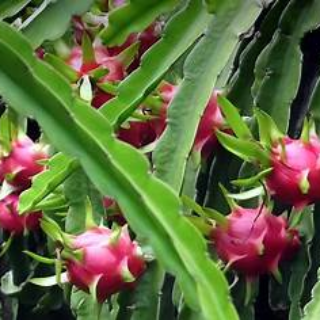thanh_long: (41, 207, 151, 302), (203, 195, 300, 271)
